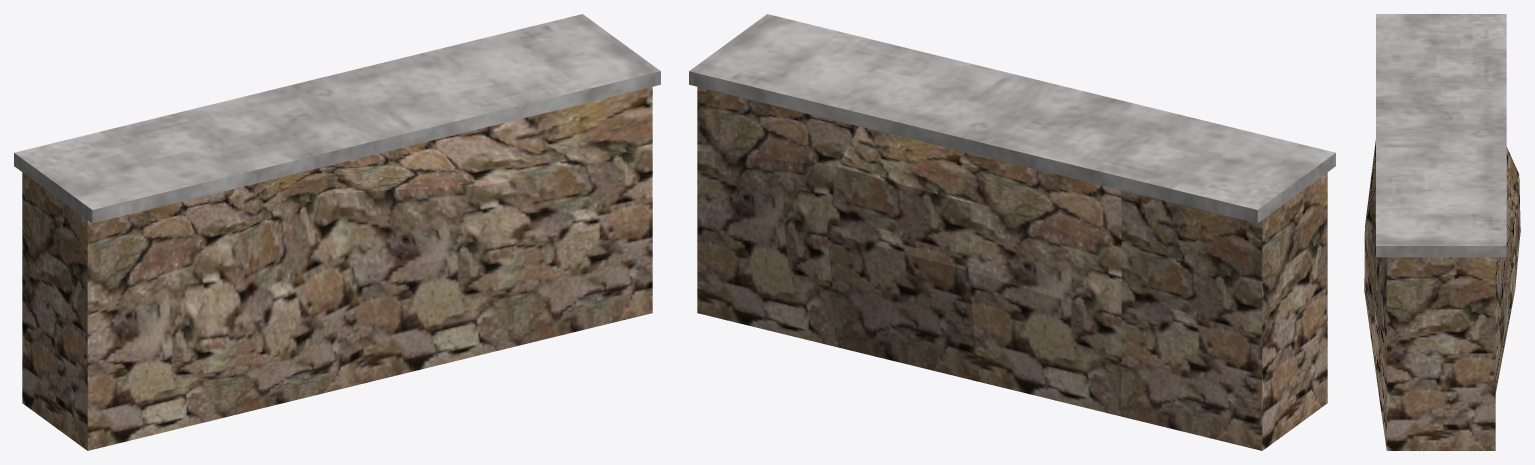
The model's file is drystone_wall_capped.fbx.
3 views of the same model, side by side, from view 1: azimuth 30°, elevation 25°; view 2: azimuth 150°, elevation 25°; view 3: azimuth 270°, elevation 25° (orthographic). The views are drawn at different scales.
Parts seen in each view (by area): view 1: drystone_wall_capped; view 2: drystone_wall_capped; view 3: drystone_wall_capped.
Part boxes in pixels (left/top/right/bottom): drystone_wall_capped: left=14, top=14, right=660, bottom=450; drystone_wall_capped: left=689, top=14, right=1335, bottom=450; drystone_wall_capped: left=1364, top=14, right=1520, bottom=450.
Size of the model in its own units: 201 by 83.28 by 57.29.
Materials: 2 (2 with a texture image).
